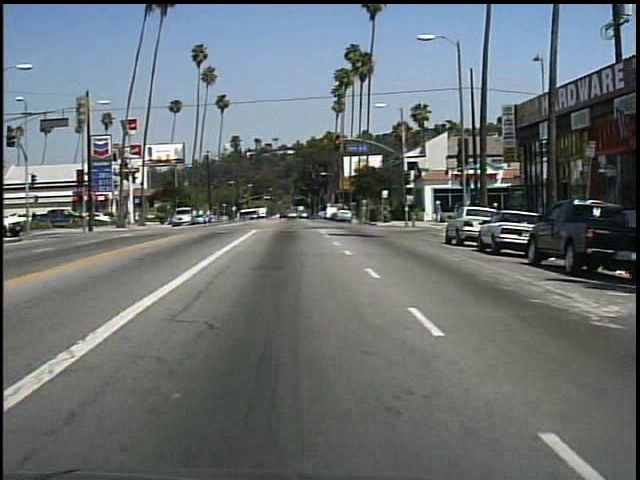person: (431, 198, 447, 224)
